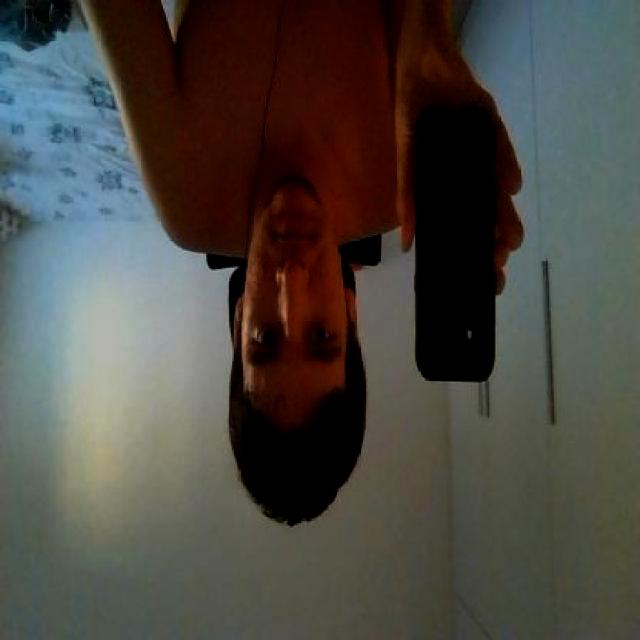phone: (415, 103, 500, 384)
